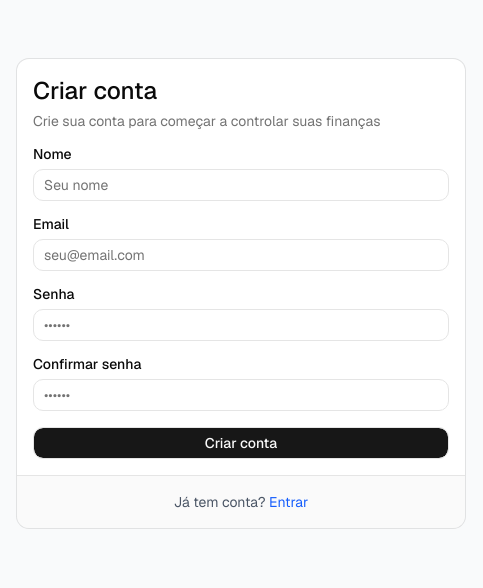
Scenario: RegisterPage › exibe erro quando senhas não coincidem
In the password field labelled "Senha": x=241, y=324 [33,308,449,340], type "123456"
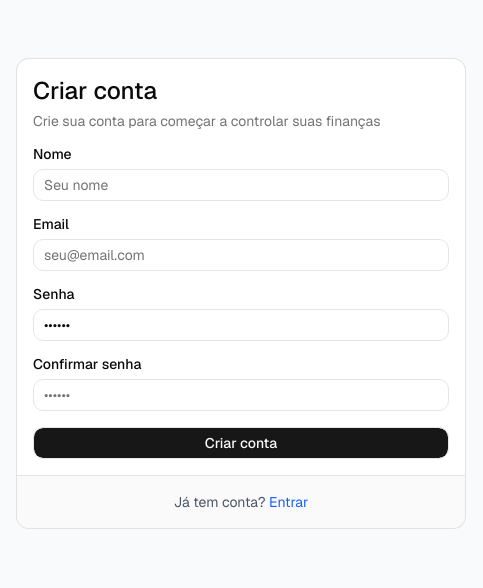
In the password field labelled "Confirmar senha": x=241, y=394 [33,378,449,410], type "654321"
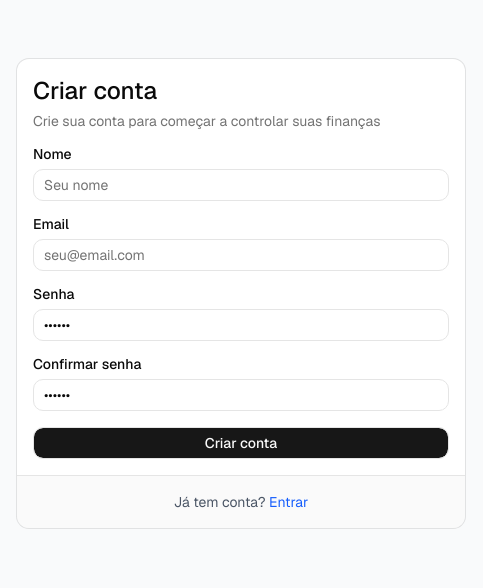
Click the button "Criar conta": x=241, y=442 [33,426,449,458]
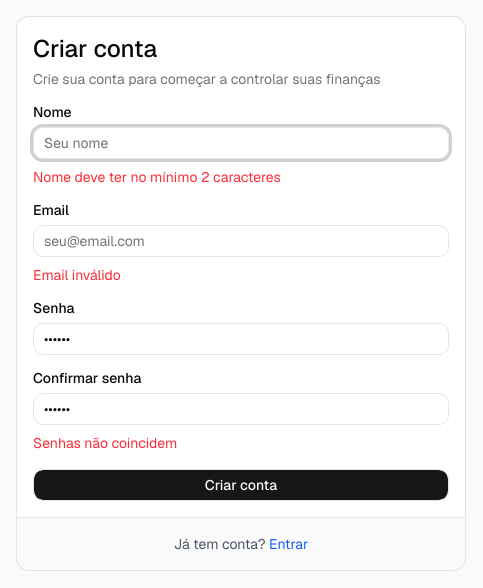
Expected: the text "Senhas não coincidem" is shown, [33,434,177,452]
